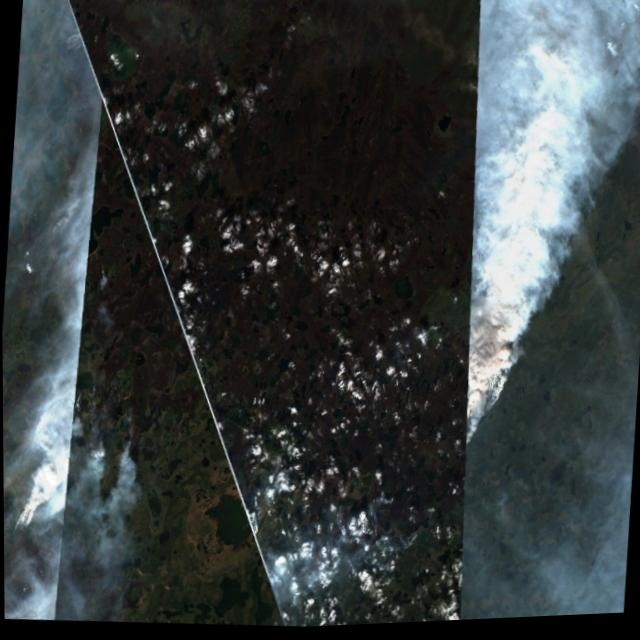fire: (444, 323, 514, 463), (3, 496, 37, 557)
